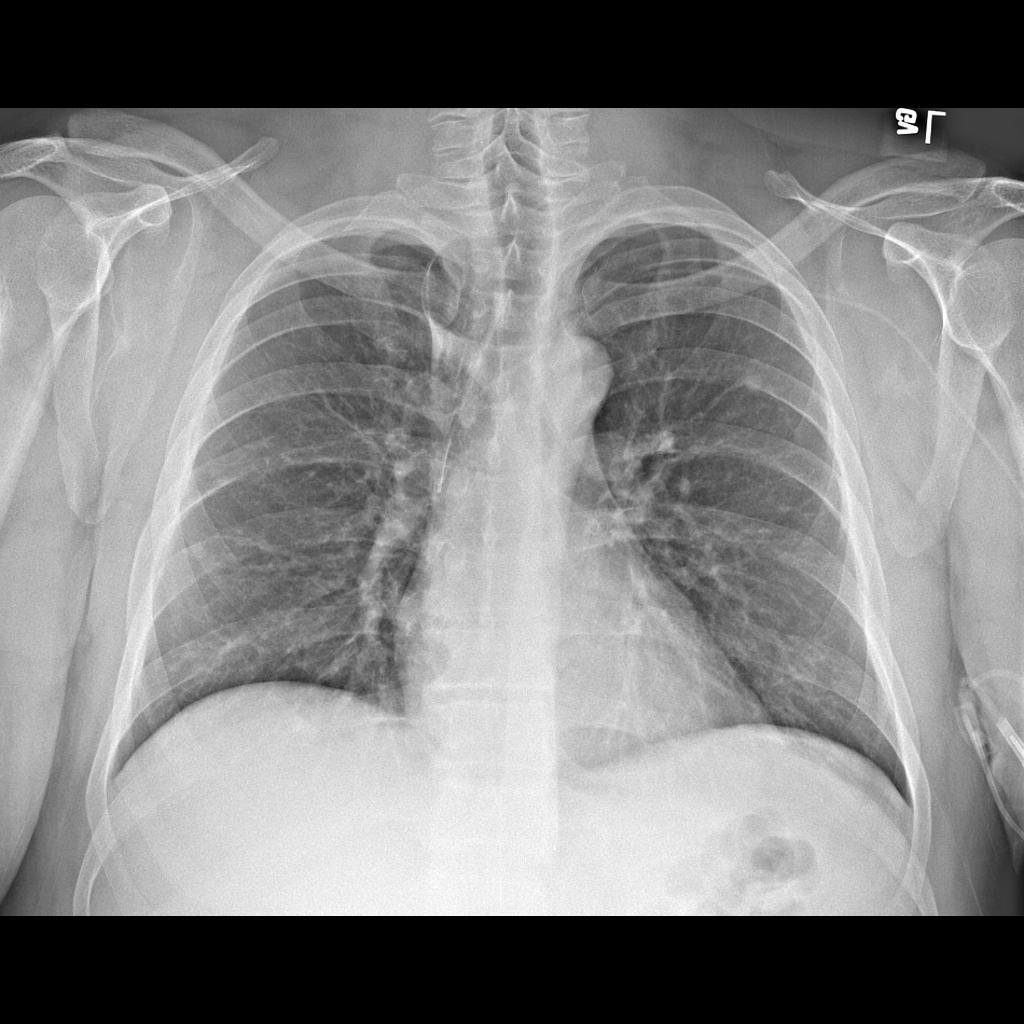Nodule: (737, 372, 773, 402)
